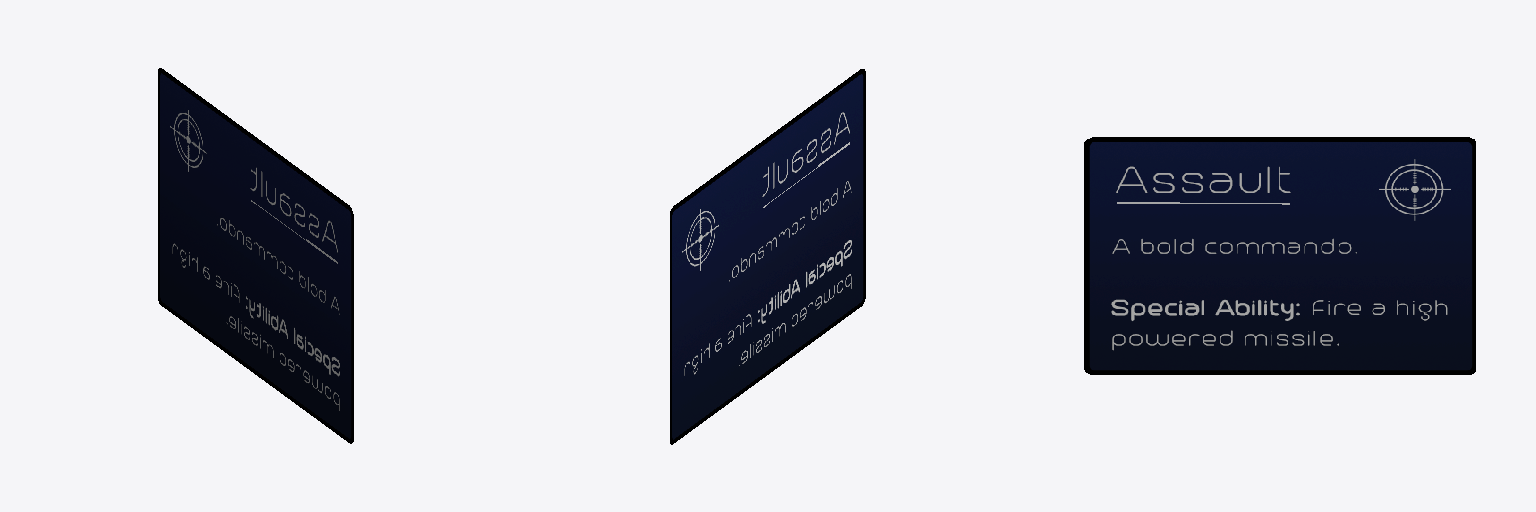
3 renders of one model, left to right at view 1: azimuth 30°, elevation 25°; view 2: azimuth 150°, elevation 25°; view 3: azimuth 270°, elevation 25°, orthographic.
Parts seen in each view (by area): view 1: Plane; view 2: Plane; view 3: Plane.
Boxes of the visible parts, box(x1,y1,x2,y2) form: Plane: box(158, 68, 353, 443); Plane: box(670, 69, 865, 444); Plane: box(1084, 137, 1475, 374).
Size of the model in its own units: 0 by 2 by 2.98.
Materials: 1 (1 with a texture image).